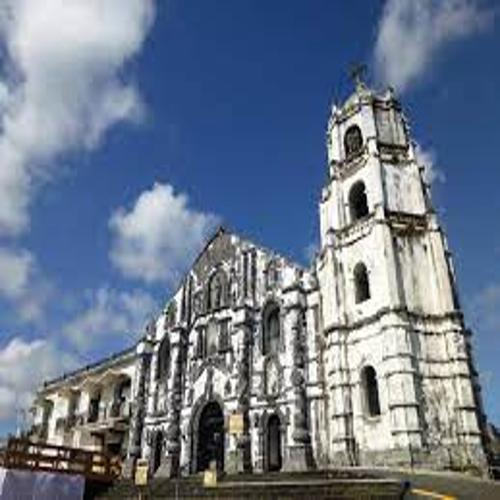Daraga Church: (130, 56, 492, 481)
